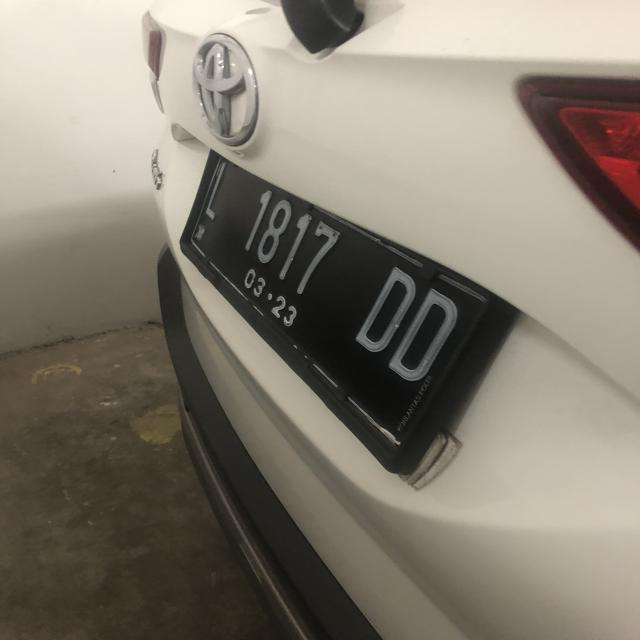1: (278, 208, 314, 280), (244, 189, 274, 249)
7: (296, 222, 340, 296)
8: (257, 196, 294, 264)
D: (389, 286, 462, 379), (358, 266, 414, 348)
L: (205, 160, 228, 220)
